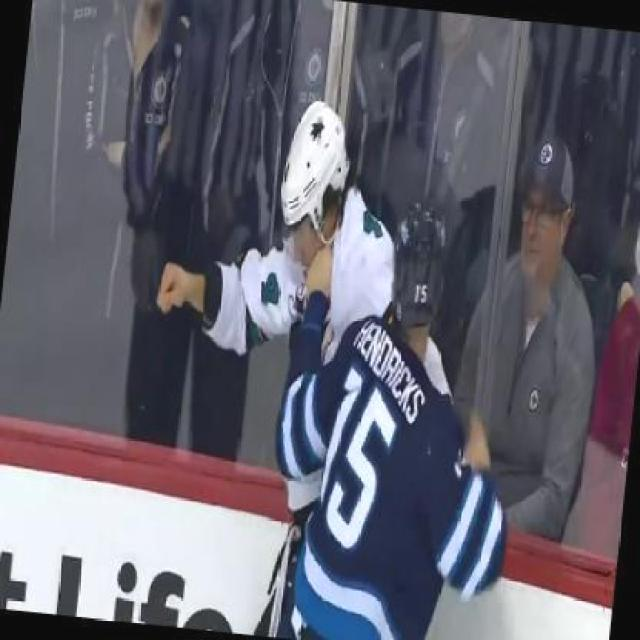fight: (152, 87, 552, 638)
